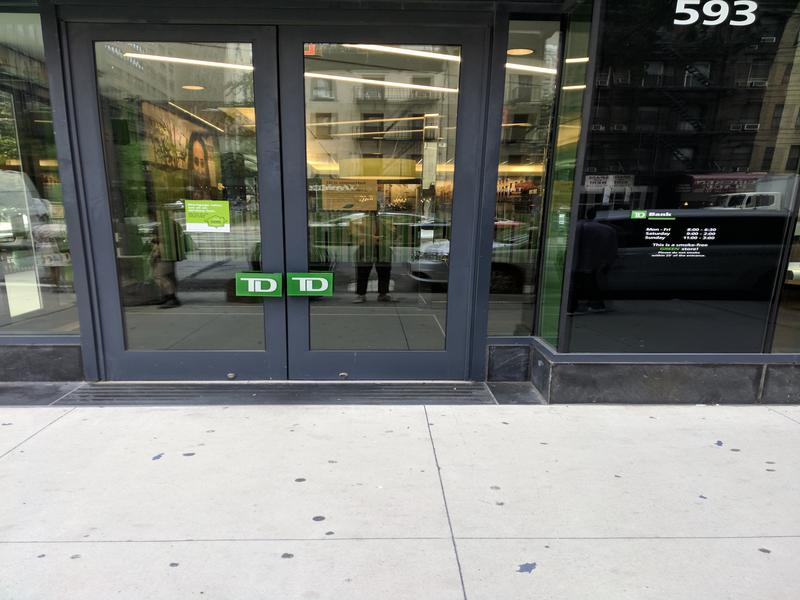double_door: (55, 4, 504, 393)
